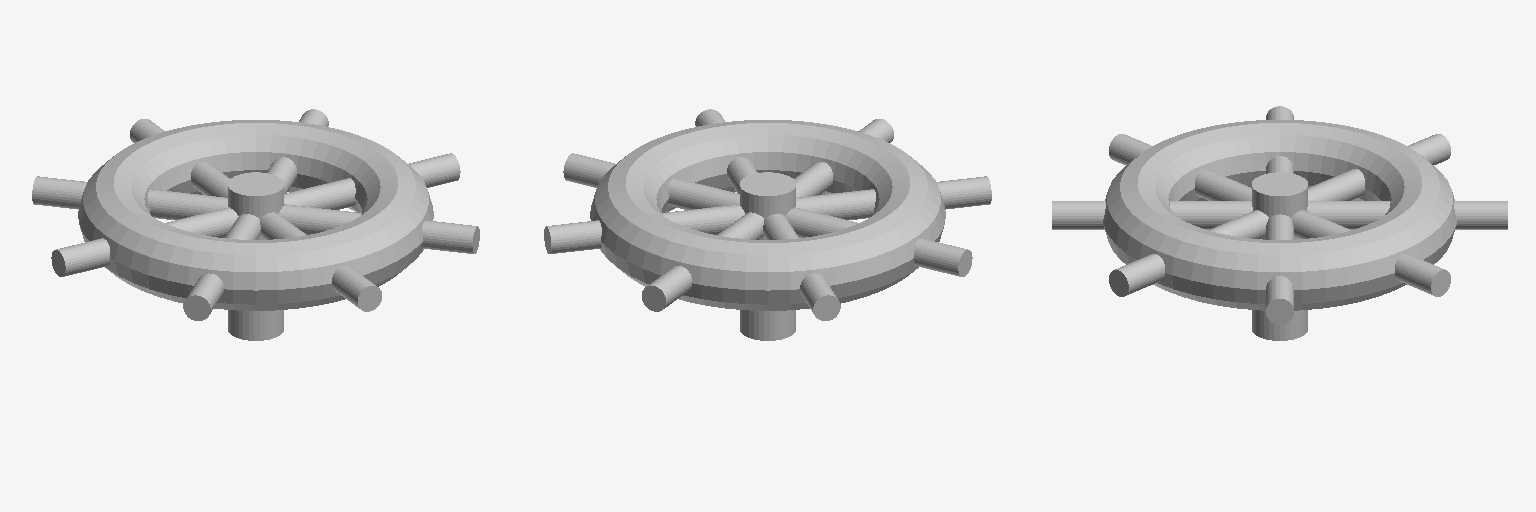
The model's file is HandWheel.obj.
3 views of the same model, side by side, from view 1: azimuth 30°, elevation 25°; view 2: azimuth 150°, elevation 25°; view 3: azimuth 270°, elevation 25° (orthographic).
Parts seen in each view (by area): view 1: Torus, Cylinder.002, Cylinder.001, Cylinder.003, Cylinder, Cylinder.004; view 2: Torus, Cylinder.004, Cylinder.001, Cylinder.003, Cylinder, Cylinder.002; view 3: Torus, Cylinder.003, Cylinder.002, Cylinder.004, Cylinder, Cylinder.001.
Part boxes in pixels (bbox=[...]): Torus: bbox=[78, 120, 433, 310]; Cylinder.002: bbox=[32, 176, 479, 253]; Cylinder.001: bbox=[51, 153, 460, 276]; Cylinder.003: bbox=[130, 119, 381, 311]; Cylinder: bbox=[228, 172, 283, 340]; Cylinder.004: bbox=[183, 109, 328, 320]; Torus: bbox=[590, 120, 945, 310]; Cylinder.004: bbox=[544, 176, 991, 253]; Cylinder.001: bbox=[563, 153, 972, 276]; Cylinder.003: bbox=[642, 119, 893, 311]; Cylinder: bbox=[740, 172, 795, 340]; Cylinder.002: bbox=[695, 109, 840, 320]; Torus: bbox=[1103, 120, 1456, 310]; Cylinder.003: bbox=[1052, 201, 1507, 229]; Cylinder.002: bbox=[1109, 134, 1450, 296]; Cylinder.004: bbox=[1109, 134, 1450, 296]; Cylinder: bbox=[1252, 172, 1307, 340]; Cylinder.001: bbox=[1266, 106, 1293, 324].
Size of the model in its own units: 8 by 2.83 by 8.